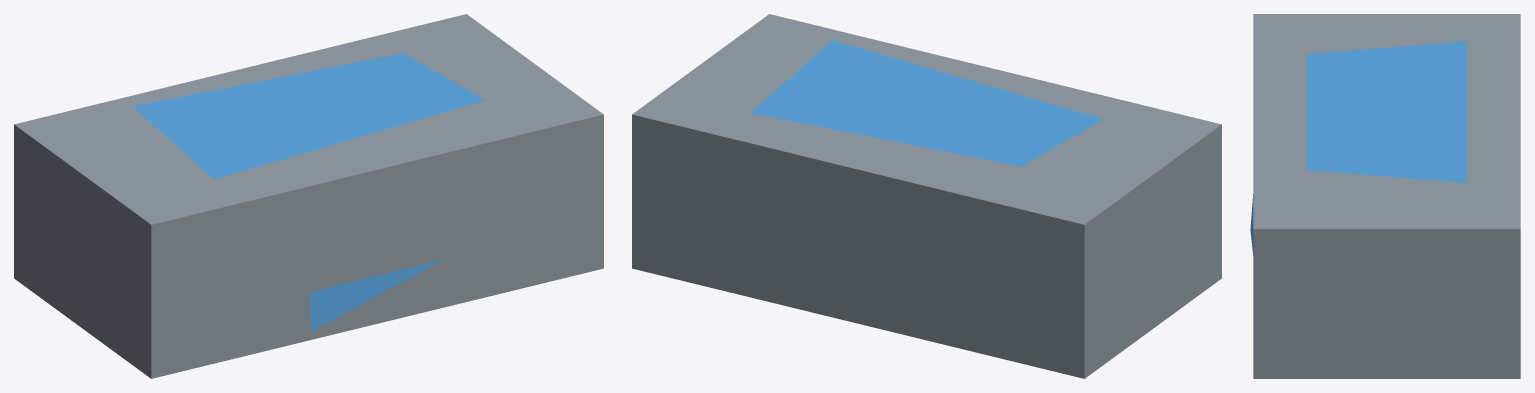
Rendered from AL_OracleArtillery_LOD1.glb.
3 renders of one model, left to right at view 1: azimuth 30°, elevation 25°; view 2: azimuth 150°, elevation 25°; view 3: azimuth 270°, elevation 25°, orthographic. The views are drawn at different scales.
Parts seen in each view (by area): view 1: EntranceGate; view 2: EntranceGate; view 3: EntranceGate.
Part boxes in pixels (x1=…): EntranceGate: x1=14, y1=14, x2=603, y2=378; EntranceGate: x1=632, y1=14, x2=1221, y2=378; EntranceGate: x1=1250, y1=14, x2=1520, y2=378.
Bounding box in the file's own units: 590 × 212 × 313.
